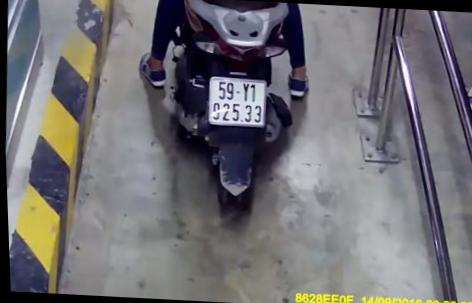LP: (204, 74, 268, 129)
